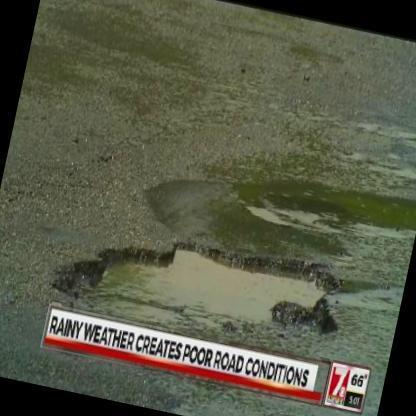pothole: (45, 233, 341, 349)
